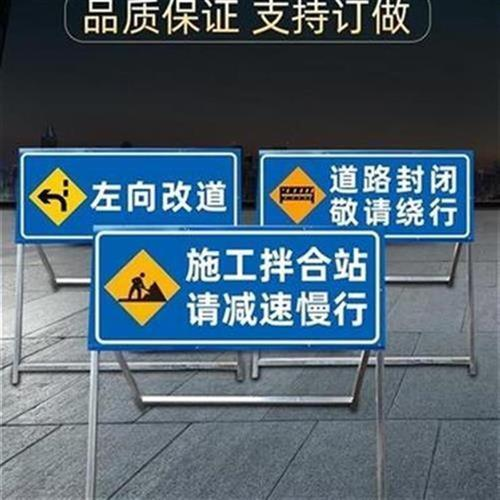sign: (94, 229, 384, 348), (262, 156, 470, 232), (21, 154, 240, 226)
